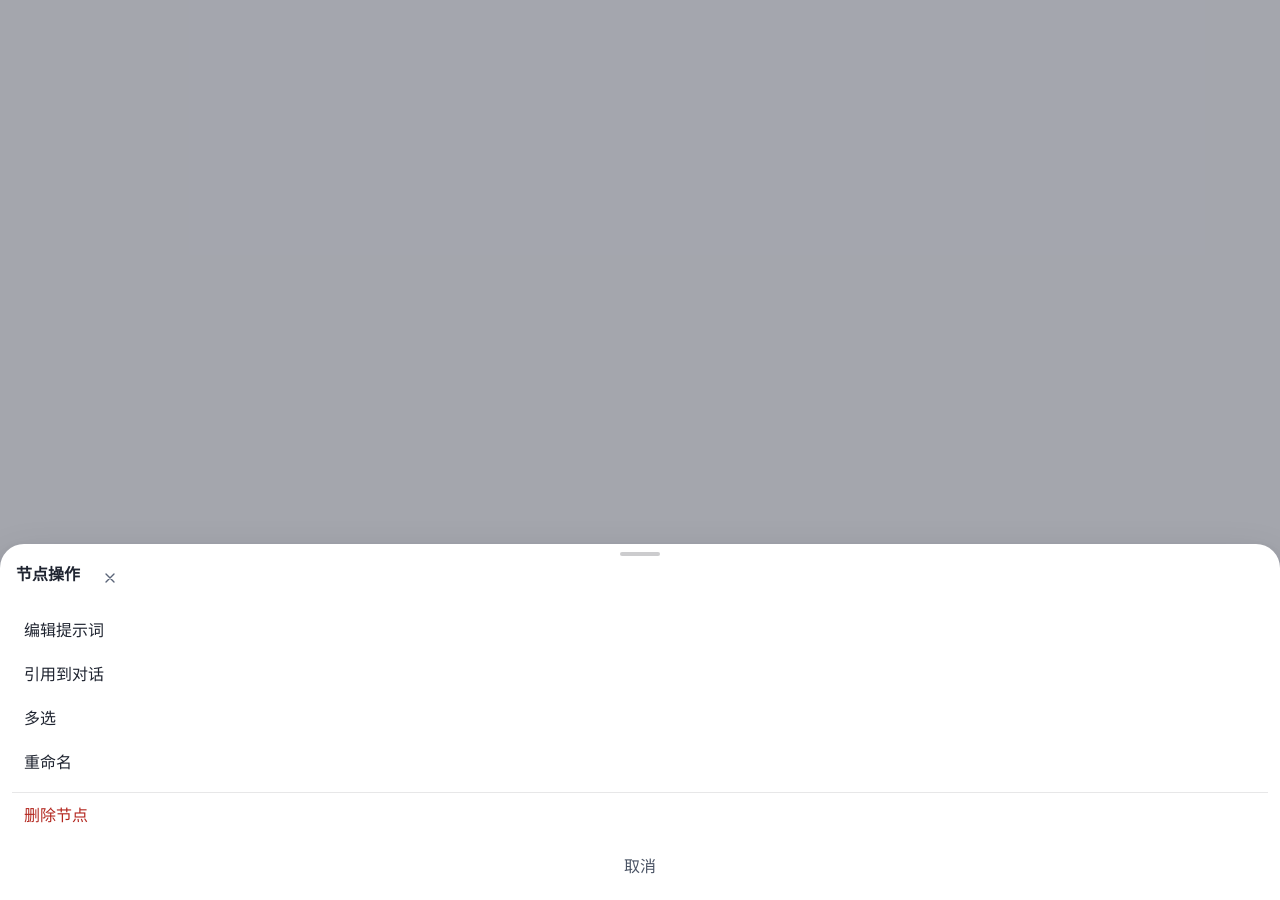
Test: R4-T3/R4-T4 移动端节点操作类 › T3 重命名：动作 sheet 内联输入 › 点「重命名」→ 出现输入框（不再静默）
This screenshot has width=1280, height=900.
Click the button "重命名": (48, 762) 12,740 -> 1268,784
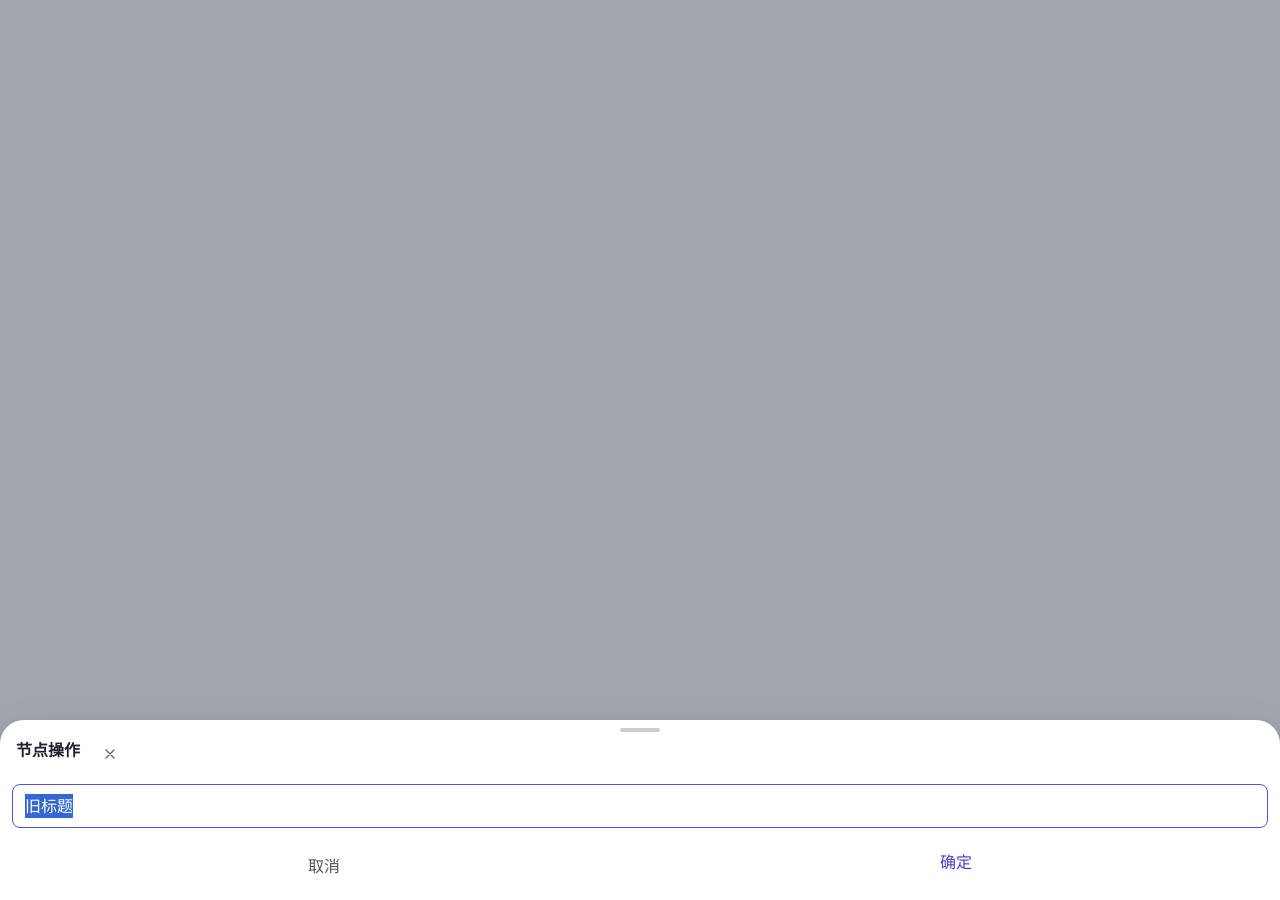
Result: the field with test id "mobile-action-rename-input" is shown at 12,784 -> 1268,828
